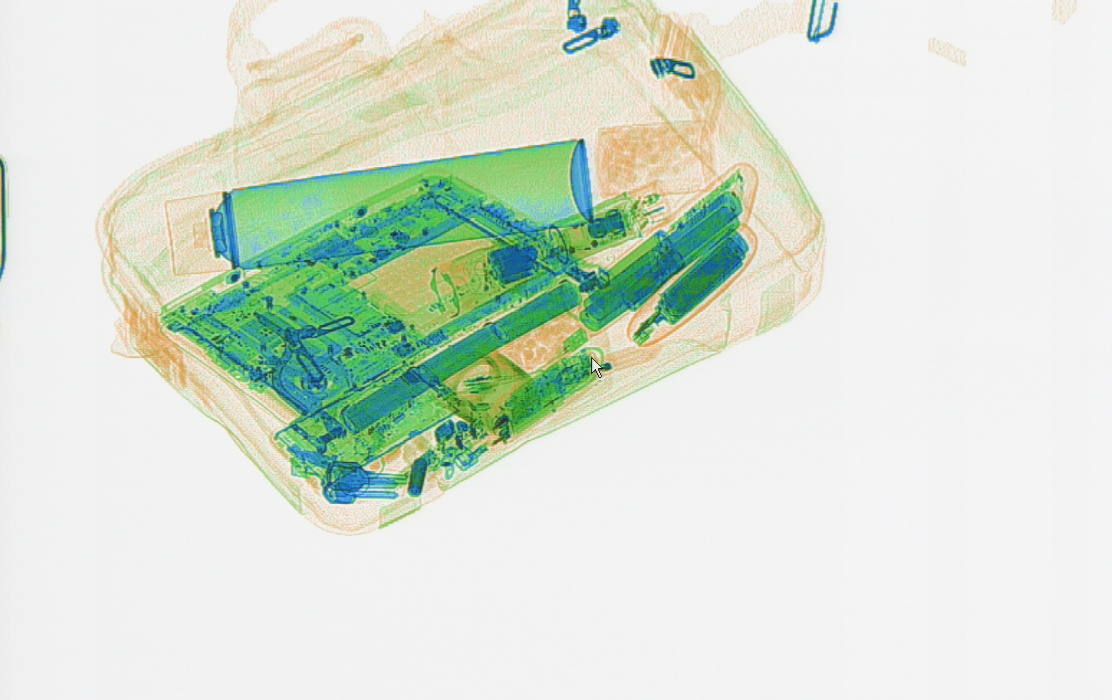powerbank: (574, 155, 758, 333), (624, 221, 756, 350)
pressure: (163, 136, 593, 278)
